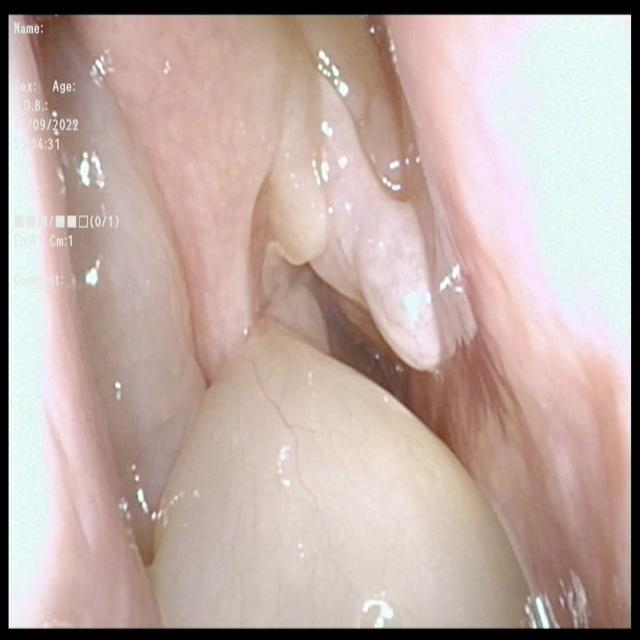POLYPS: (127, 310, 535, 637), (229, 37, 429, 407), (0, 29, 115, 523), (178, 259, 188, 261)
